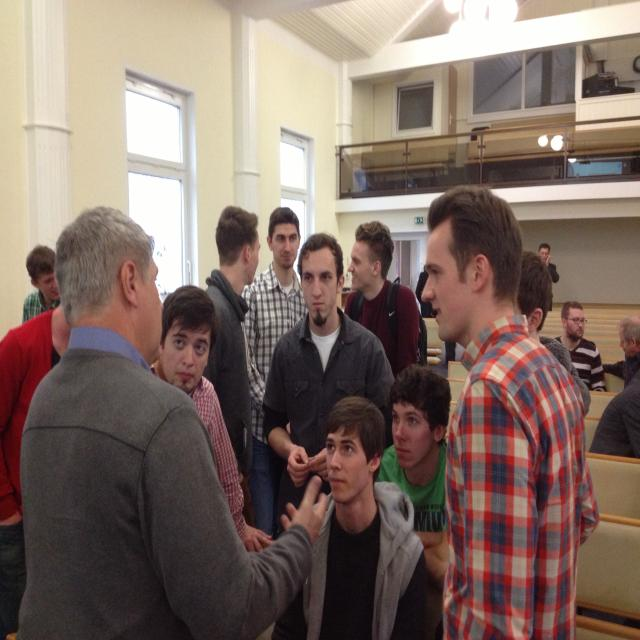body: (12, 203, 333, 640), (415, 182, 606, 640), (260, 231, 396, 538), (270, 394, 427, 640), (142, 283, 276, 552), (0, 305, 71, 640), (241, 206, 307, 537), (377, 363, 450, 639), (204, 205, 262, 534), (514, 249, 592, 422), (344, 145, 640, 186), (346, 220, 418, 377), (587, 367, 640, 462), (555, 298, 605, 392), (21, 246, 64, 324), (601, 314, 640, 391), (538, 241, 559, 313), (415, 263, 438, 318)
